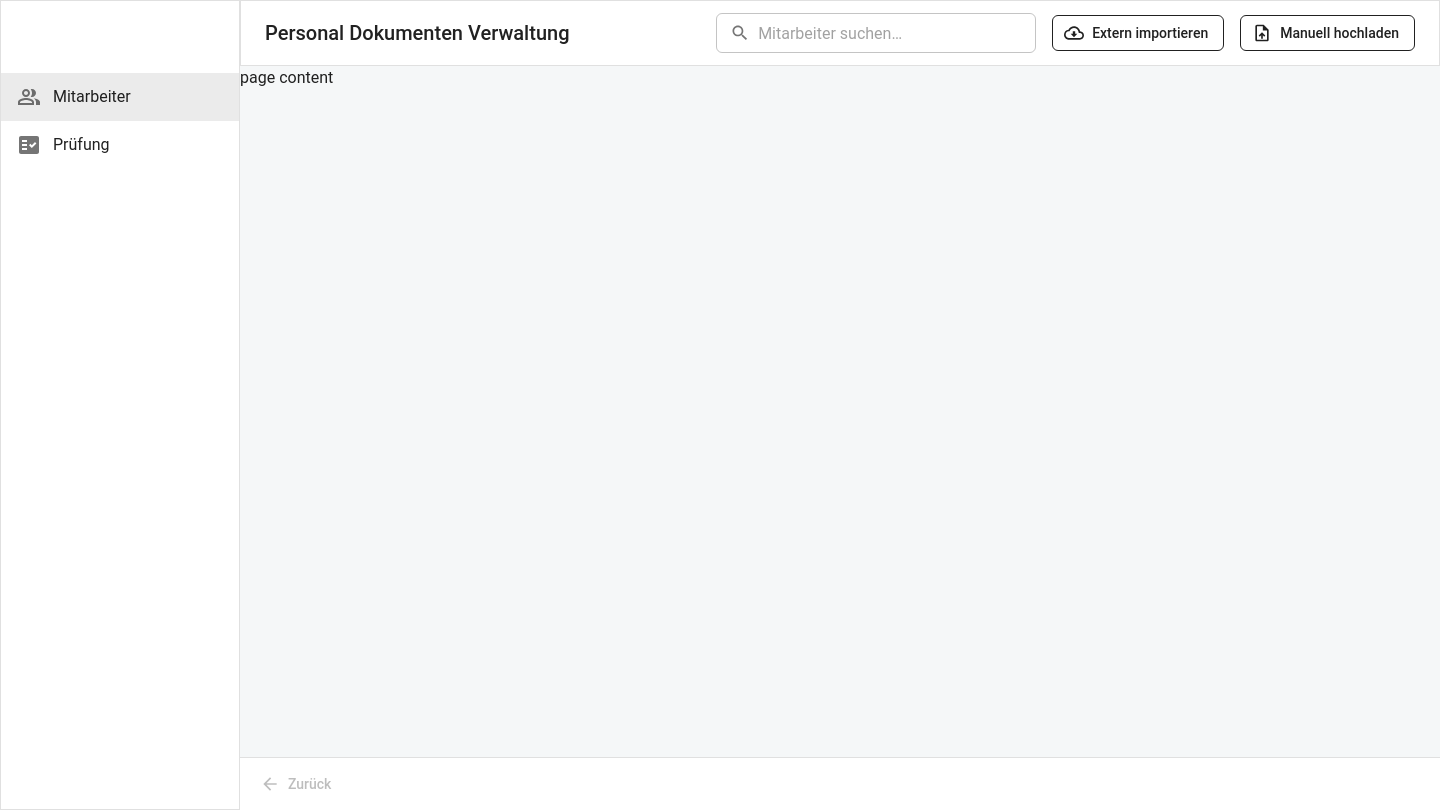
it: AppShell › opens the upload dialog from the global upload button
Click the button "Manuell hochladen".
click(1328, 33)  # box [1240, 15, 1415, 51]
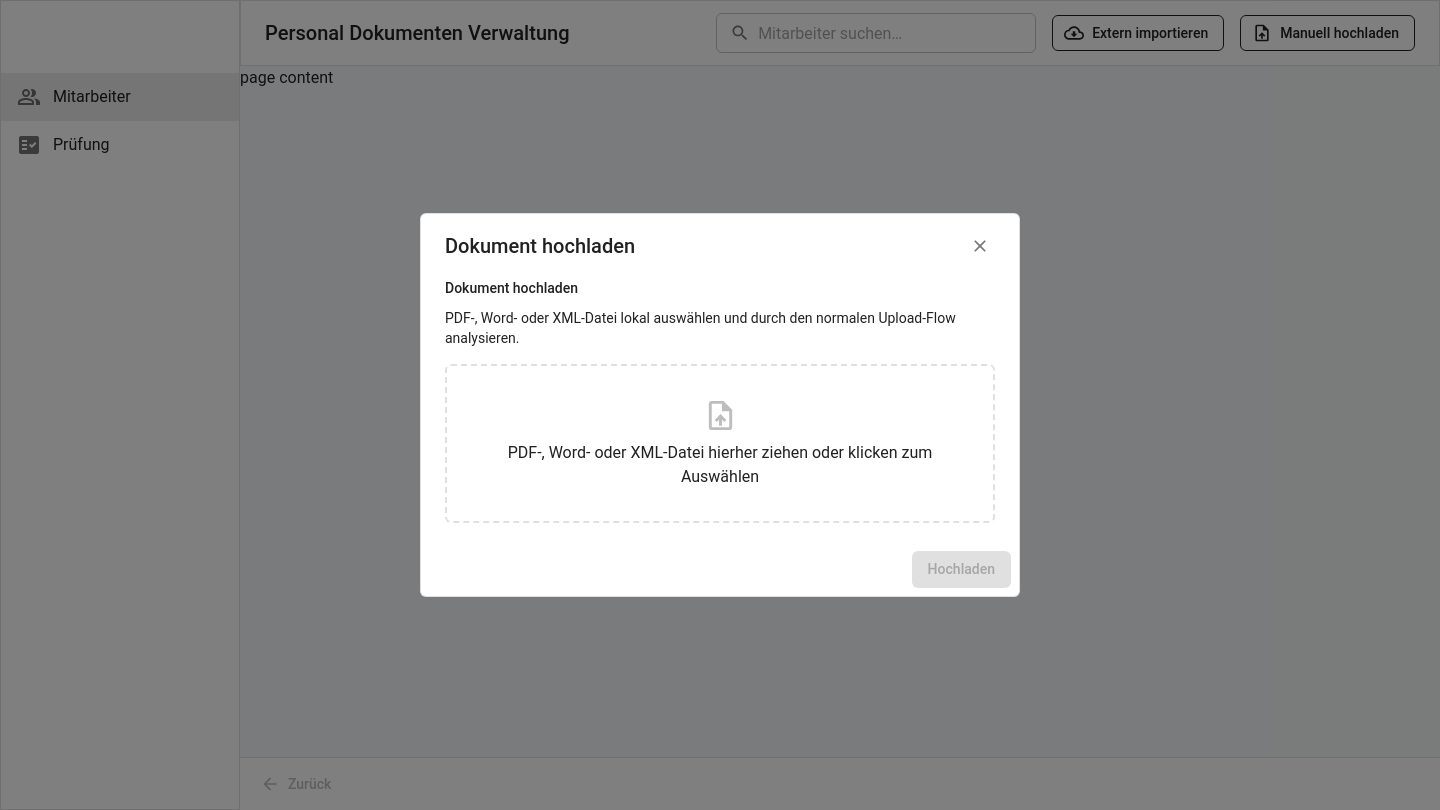
Result: the dialog "Dokument hochladen" is shown at [420, 213, 1020, 597]
